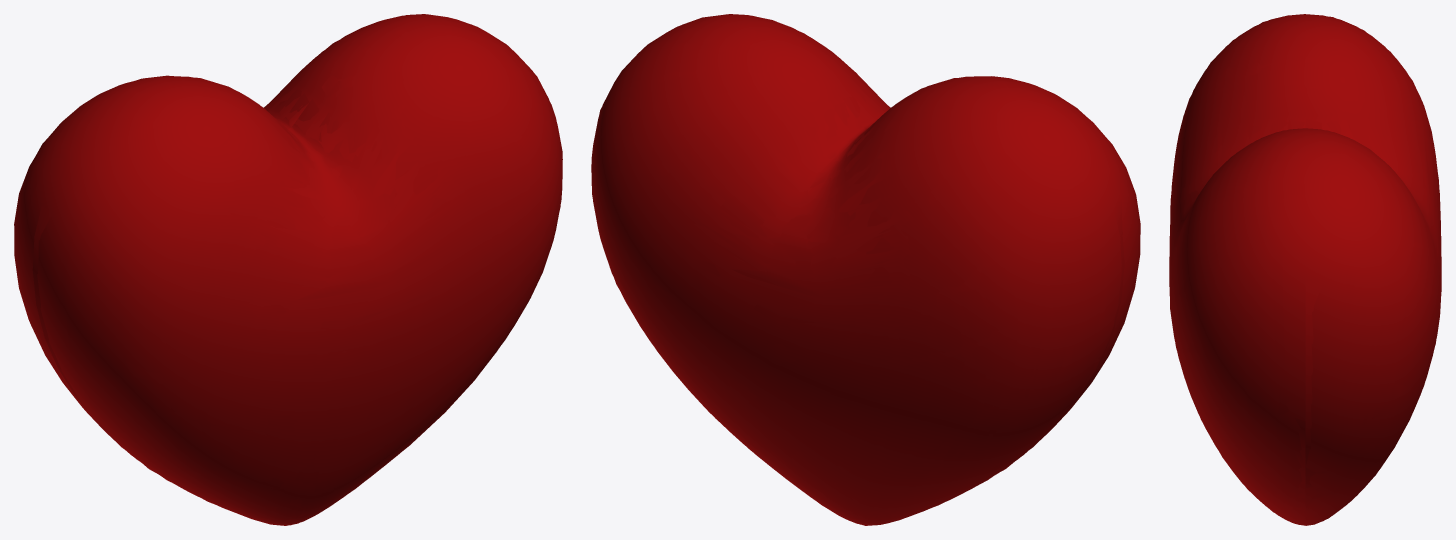
File: love-pump.glb
The picture shows the model from 3 angles, left to right: view 1: azimuth 30°, elevation 25°; view 2: azimuth 150°, elevation 25°; view 3: azimuth 270°, elevation 25°; orthographic projection. The views are drawn at different scales.
Parts seen in each view (by area): view 1: BASE HEART_Material #41_0, BASE HEART_Material #41_0.002, BASE HEART_Material #41_0.001; view 2: BASE HEART_Material #41_0, BASE HEART_Material #41_0.002, BASE HEART_Material #41_0.001; view 3: BASE HEART_Material #41_0, BASE HEART_Material #41_0.002, BASE HEART_Material #41_0.001.
Part boxes in pixels (bbox=[...]): BASE HEART_Material #41_0: bbox=[14, 14, 562, 525]; BASE HEART_Material #41_0.002: bbox=[14, 14, 562, 525]; BASE HEART_Material #41_0.001: bbox=[31, 32, 549, 525]; BASE HEART_Material #41_0: bbox=[591, 14, 1140, 525]; BASE HEART_Material #41_0.002: bbox=[591, 14, 1140, 525]; BASE HEART_Material #41_0.001: bbox=[592, 46, 1140, 525]; BASE HEART_Material #41_0: bbox=[1169, 14, 1441, 525]; BASE HEART_Material #41_0.002: bbox=[1170, 14, 1441, 525]; BASE HEART_Material #41_0.001: bbox=[1169, 39, 1441, 525].
Bounding box in the file's own units: 26.71 × 23.23 × 13.12.
